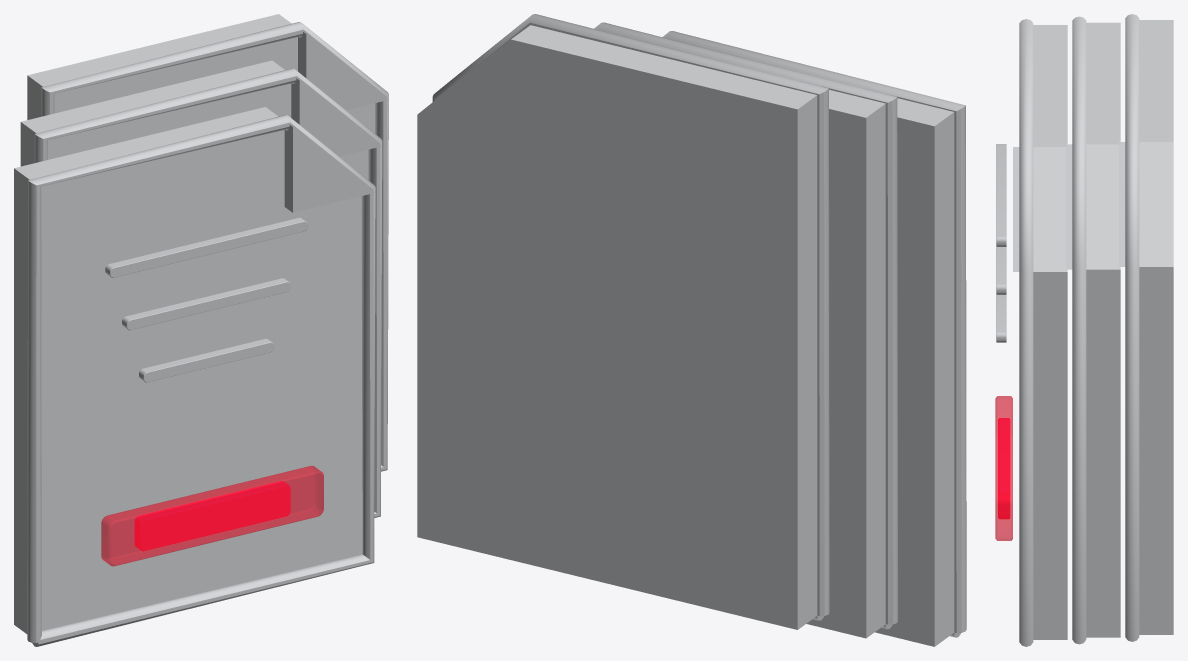
File: 16-document.glb
3 renders of one model, left to right at view 1: azimuth 30°, elevation 25°; view 2: azimuth 150°, elevation 25°; view 3: azimuth 270°, elevation 25°, orthographic. The views are drawn at different scales.
Parts seen in each view (by area): view 1: BC clear optical glass, BC satin iron, BC ruby optical glass, BC internal ruby light; view 2: BC clear optical glass, BC satin iron; view 3: BC clear optical glass, BC satin iron, BC ruby optical glass, BC internal ruby light.
Part boxes in pixels (box(x1,y1,x2,y2)): BC clear optical glass: box(14, 14, 374, 633); BC satin iron: box(27, 22, 388, 646); BC ruby optical glass: box(101, 466, 323, 566); BC internal ruby light: box(134, 481, 290, 551); BC clear optical glass: box(417, 25, 954, 646); BC satin iron: box(432, 14, 966, 637); BC clear optical glass: box(1033, 20, 1173, 639); BC satin iron: box(996, 14, 1139, 646); BC ruby optical glass: box(995, 396, 1012, 540); BC internal ruby light: box(998, 418, 1010, 519).
Bounding box in the file's own units: 1.61 × 1.89 × 0.605.
